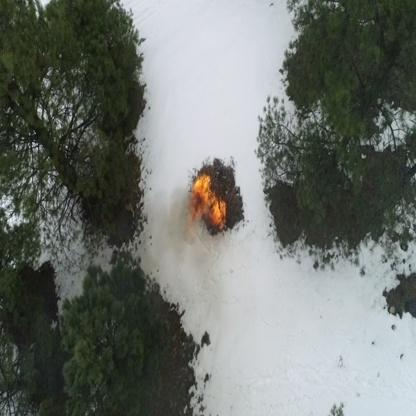Fire: (189, 177, 212, 220), (206, 191, 230, 228)
